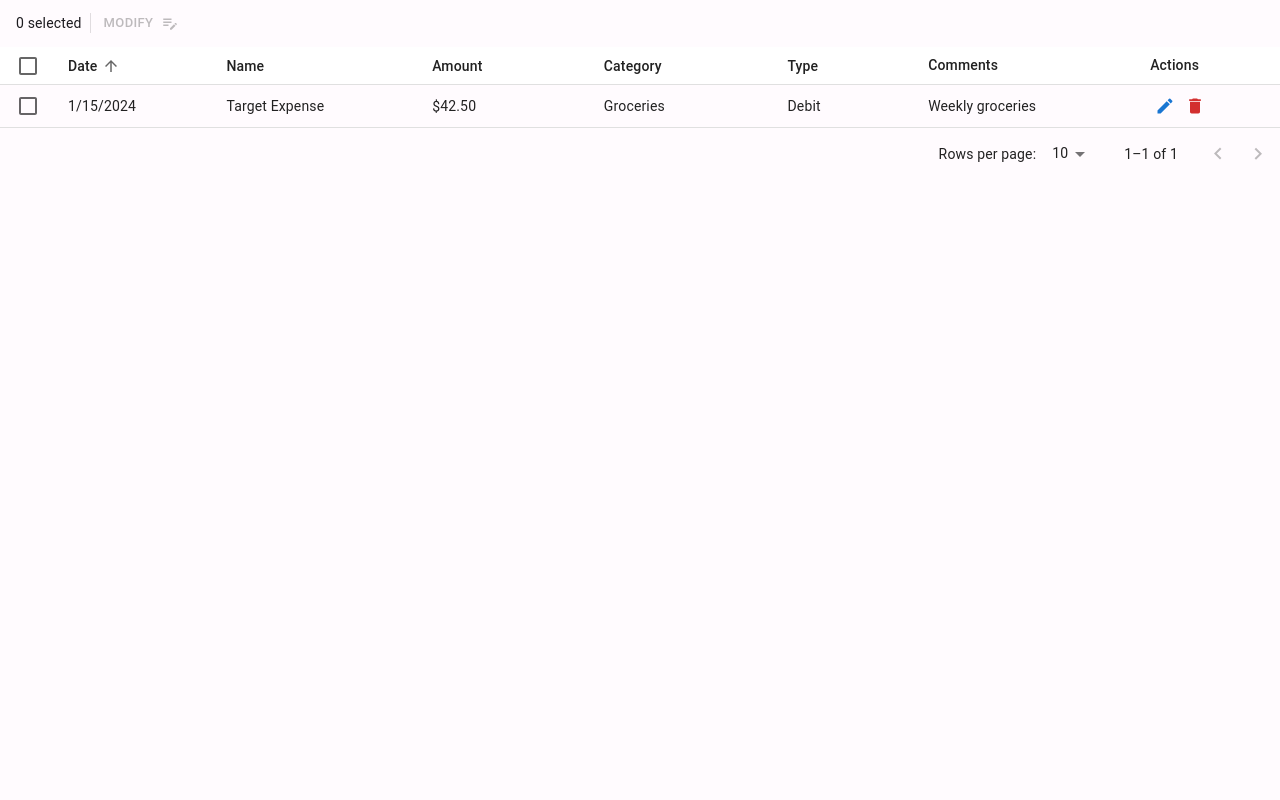
ImportReviewTable › row actions › should open delete dialog when delete button is clicked on a row
Click the button named "Delete Target Expense" at coordinates (1195, 106), box [1180,91,1210,121]
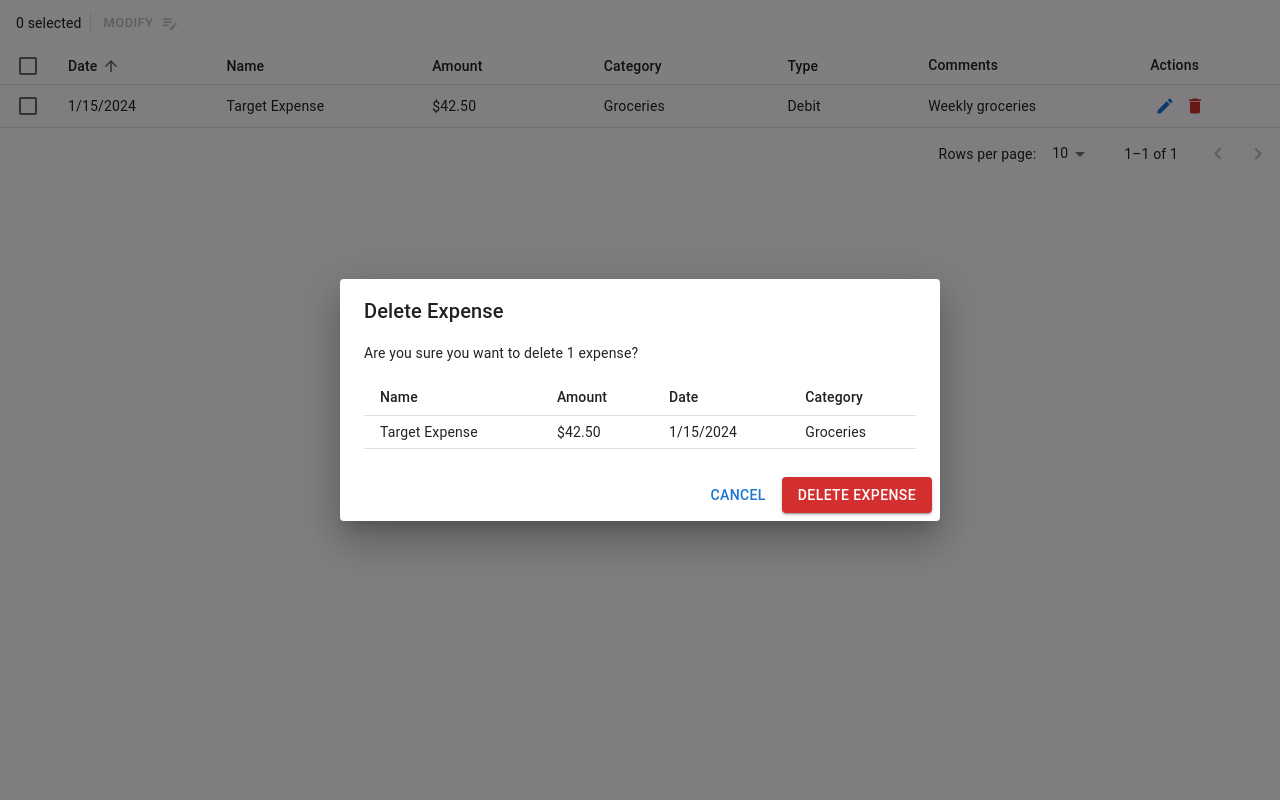
Check: the heading "Delete Expense" is shown, box [364,299,504,323]
Check: the text "Are you sure you want to delete 1 expense?" is shown, box [364,345,638,361]
